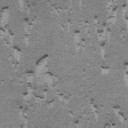oxide scale of temperature system: (0, 0, 72, 128), (73, 0, 128, 86), (74, 98, 99, 124), (104, 104, 128, 128), (46, 36, 54, 46), (51, 3, 62, 10)
